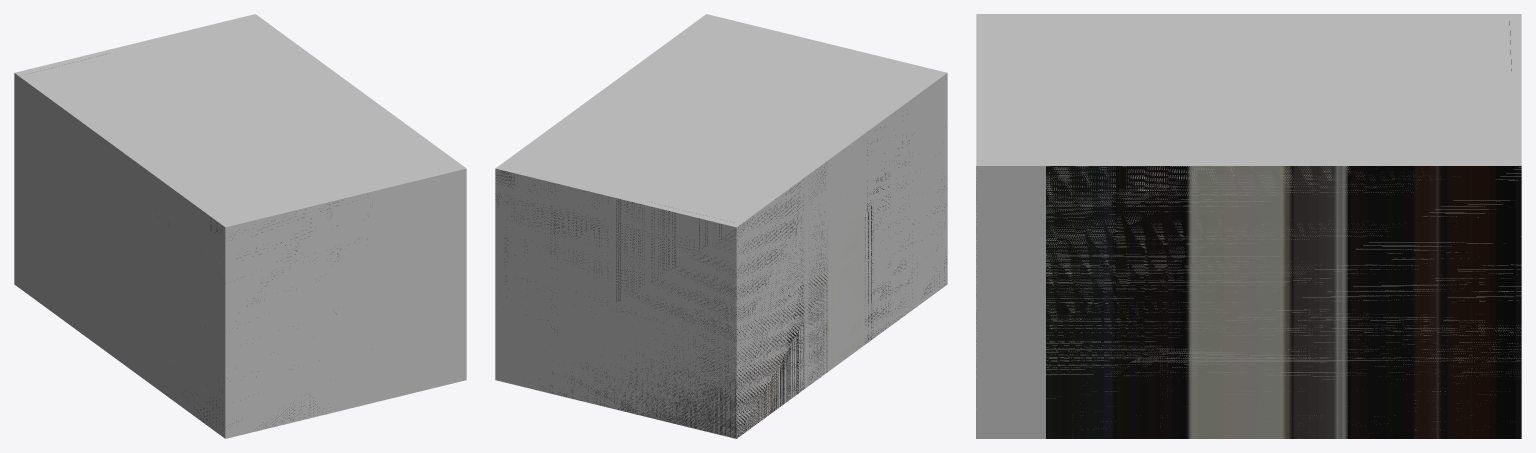
File: coffee_machine.DAE
3 views of the same model, side by side, from view 1: azimuth 30°, elevation 25°; view 2: azimuth 150°, elevation 25°; view 3: azimuth 270°, elevation 25° (orthographic). The views are drawn at different scales.
Parts seen in each view (by area): view 1: bounds; view 2: bounds, colbox-1; view 3: colbox-1, bounds.
Boxes of the visible parts, left/top/right/bottom form: bounds: left=14, top=14, right=466, bottom=438; bounds: left=495, top=14, right=947, bottom=438; colbox-1: left=495, top=127, right=946, bottom=438; colbox-1: left=976, top=166, right=1521, bottom=438; bounds: left=976, top=14, right=1521, bottom=438.
Bounding box in the file's own units: 49.58 × 75.17 × 41.55.
